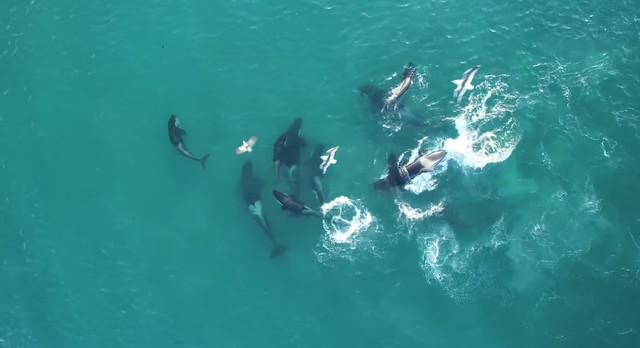whale: (229, 156, 294, 262), (361, 145, 451, 201), (155, 104, 213, 173), (268, 183, 344, 233), (266, 110, 304, 194)
